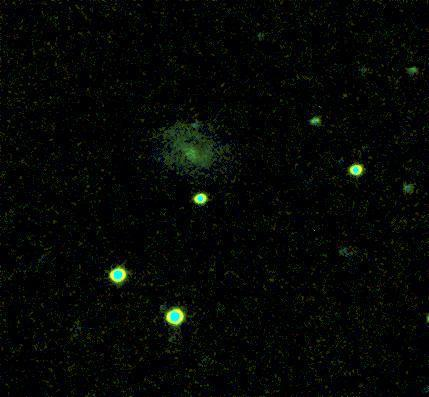star: (183, 106, 213, 136)
